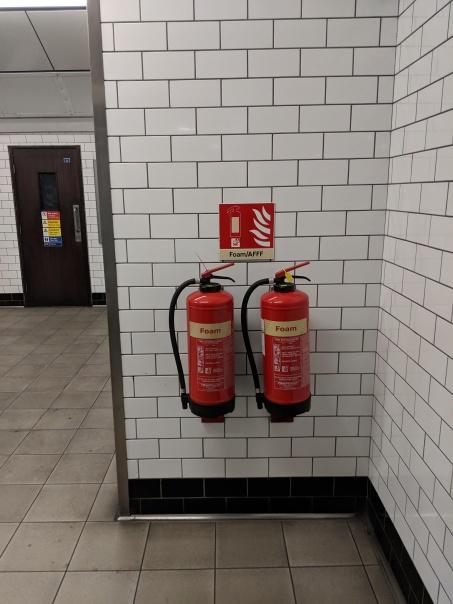APAR: (259, 260, 312, 415), (186, 262, 235, 418)
